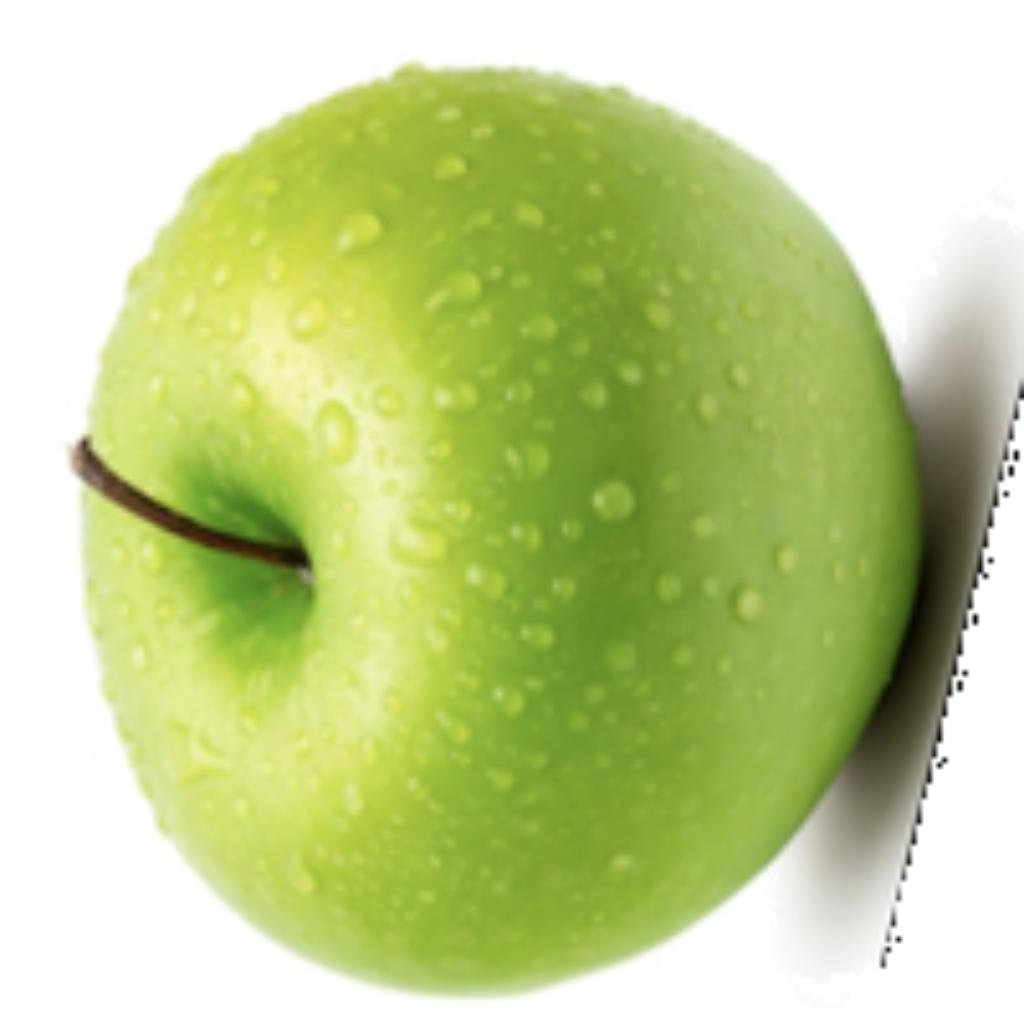apple: (56, 51, 1019, 1004)
